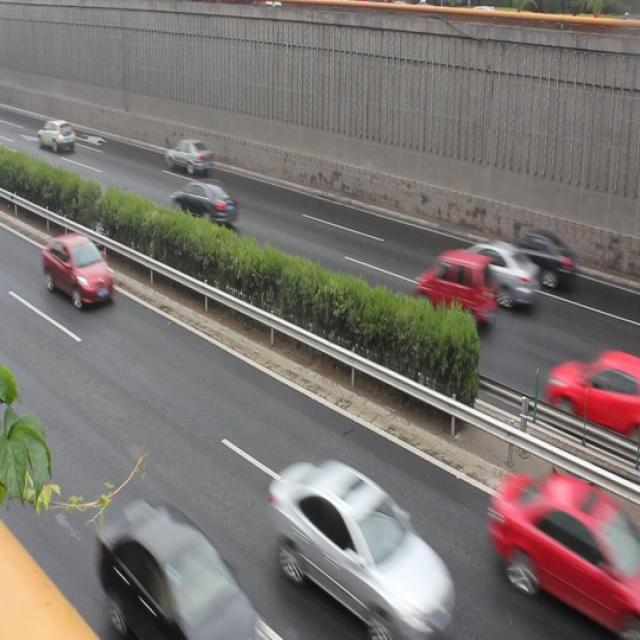car: (271, 460, 449, 632), (487, 469, 627, 626), (97, 505, 254, 640), (448, 236, 534, 308), (490, 225, 574, 293), (414, 251, 492, 324), (44, 234, 111, 308), (171, 180, 236, 230), (165, 138, 213, 176)
